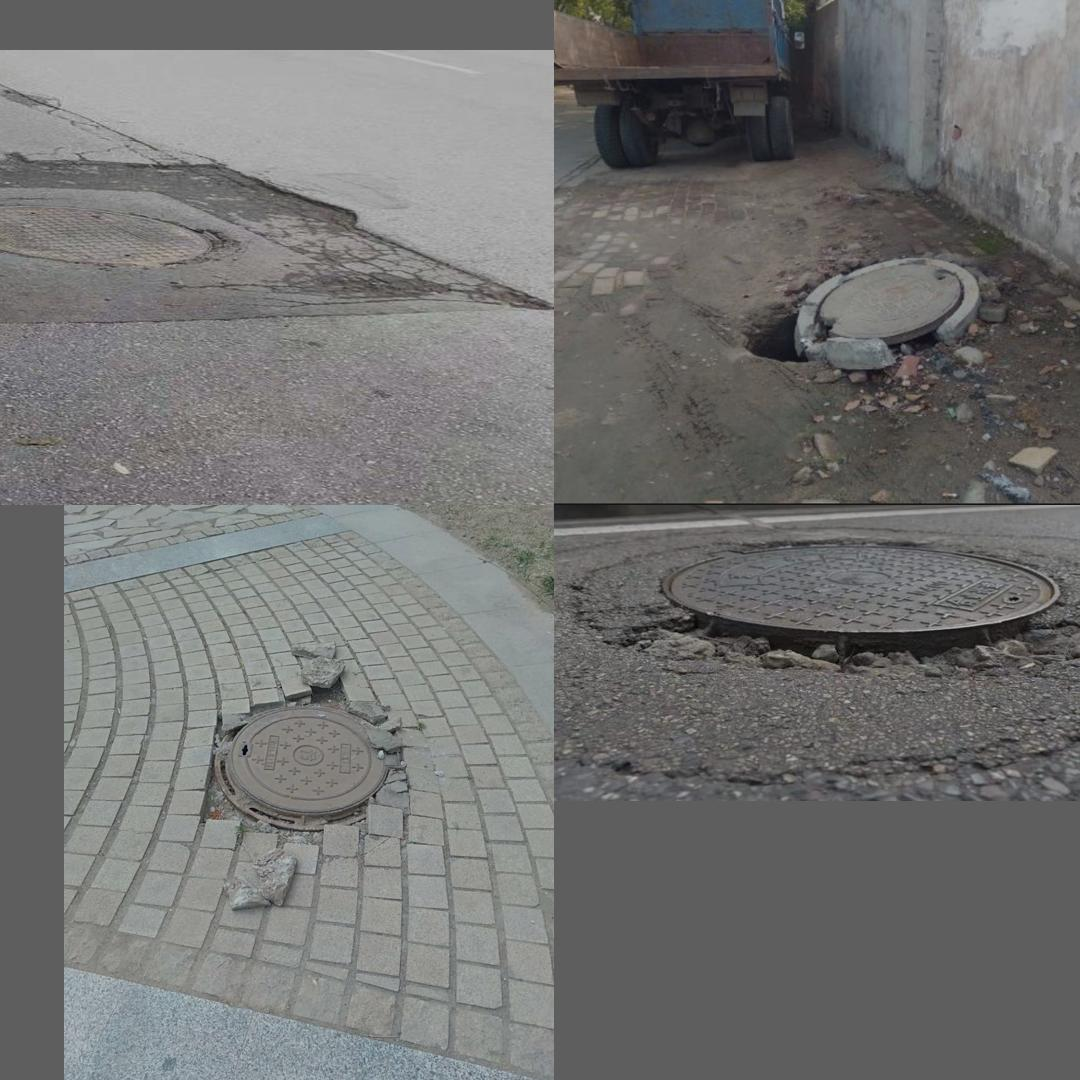circle: (575, 534, 1080, 693), (0, 171, 422, 318), (181, 669, 435, 859), (760, 255, 983, 372)
